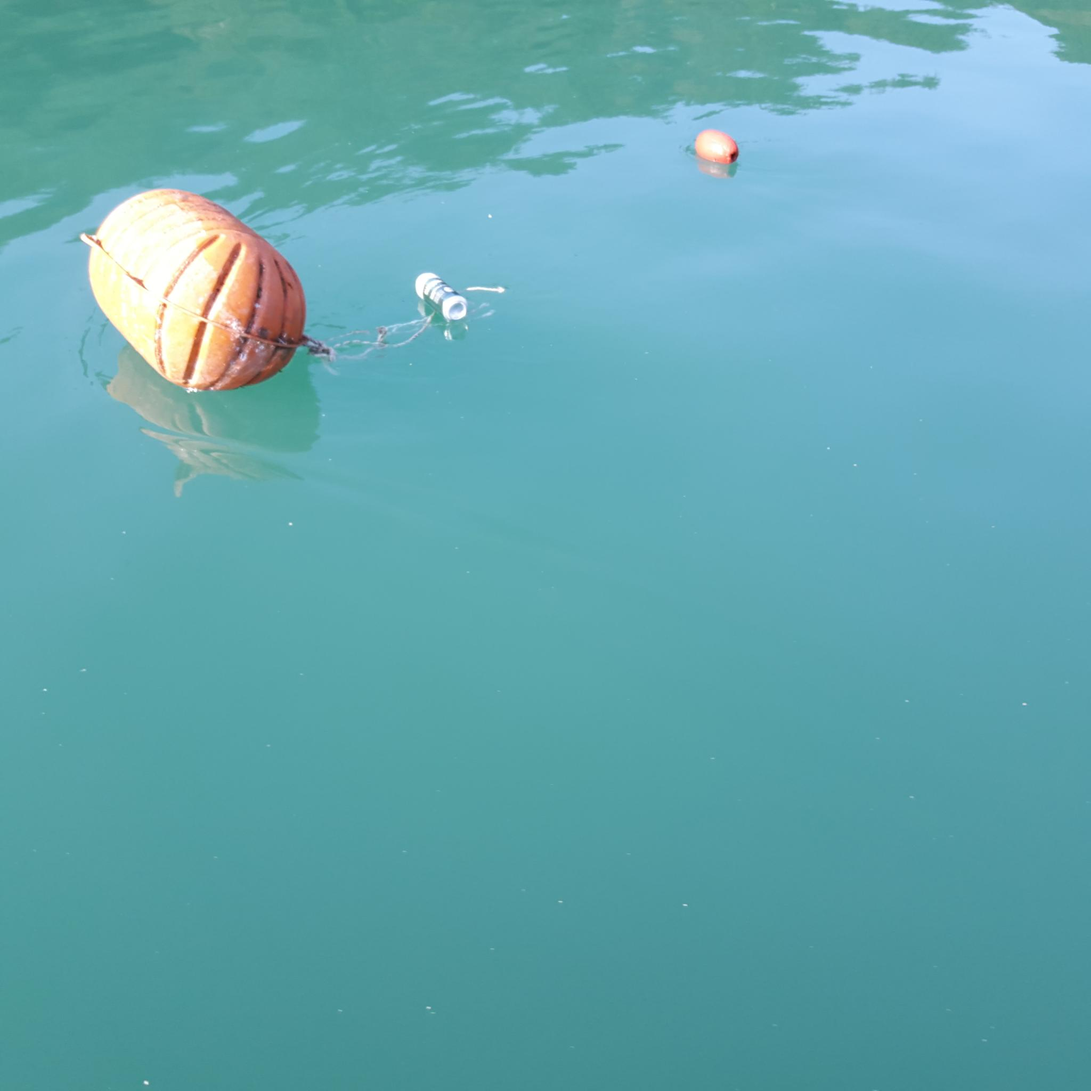sampah_terapung: (81, 189, 306, 391), (305, 287, 506, 376), (416, 273, 468, 321), (696, 130, 739, 164)
